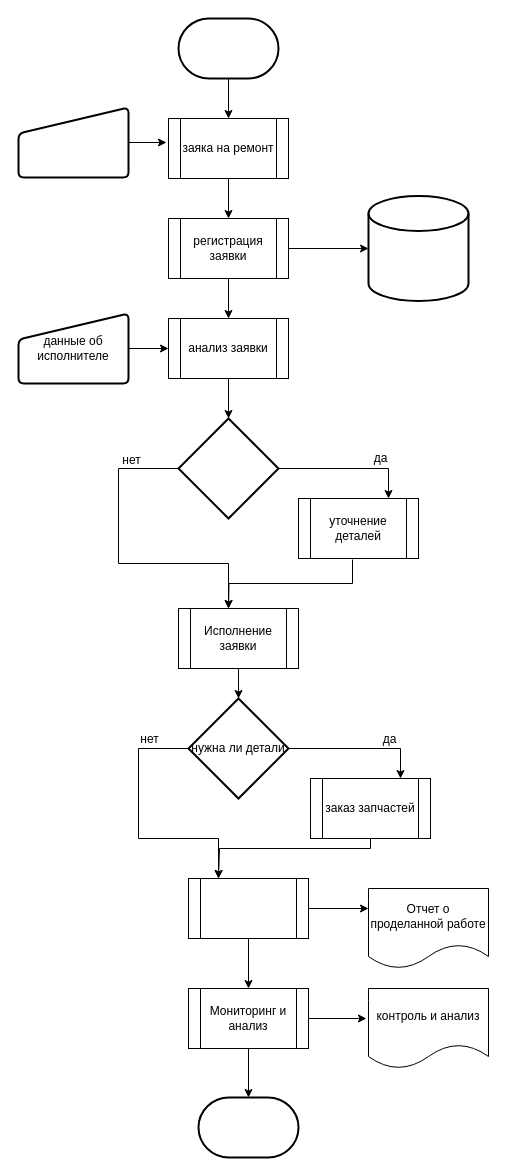
Image size: 506x1175. Some labels were removed from this diagram. Here are the shapes that lost their labels. From the top down, the box of each, then its label:
(177, 17, 279, 79): НАЧАЛО
(17, 106, 129, 178): неисправность оборудования
(367, 194, 469, 302): система учета заявок
(177, 417, 279, 519): нужна ли доп инф-я
(188, 878, 308, 938): Отчетность и информирование
(197, 1096, 299, 1158): КОНЕЦ
